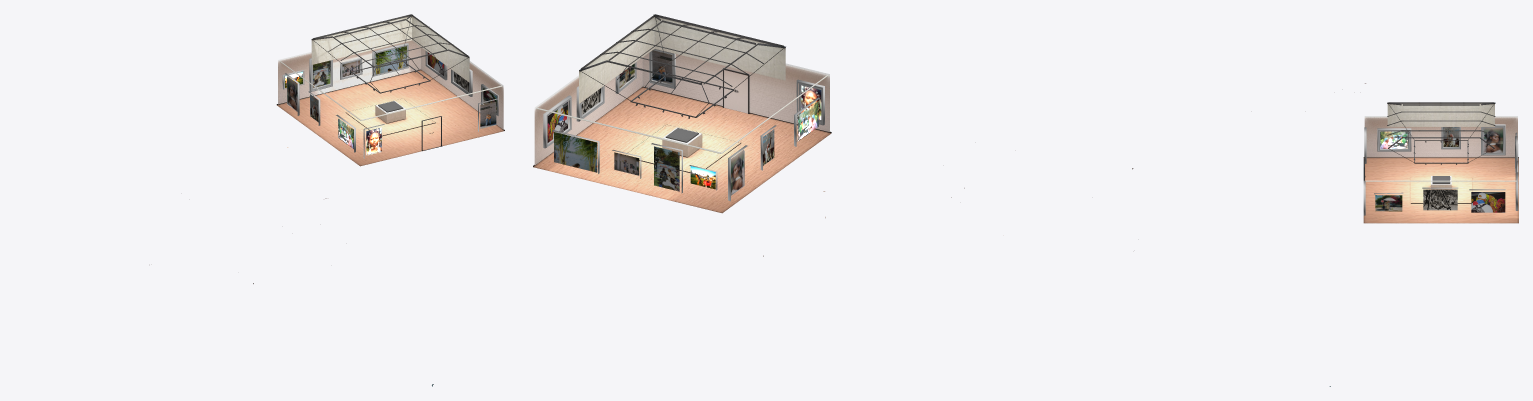
3 renders of one model, left to right at view 1: azimuth 30°, elevation 25°; view 2: azimuth 150°, elevation 25°; view 3: azimuth 270°, elevation 25°, orthographic. The views are drawn at different scales.
Visible parts, largest first — view 1: VR_Gallery_VR_Gallery_0.003, IMG_3661.002, IMG_1500; view 2: VR_Gallery_VR_Gallery_0.003, IMG_3661.002, IMG_1500, WALL3.002, union2; view 3: VR_Gallery_VR_Gallery_0.003, home, IMG_5284, gradification1.002, WALL3.002, IMG_2832.001, Pictures_2.042, IMG_0941.001.
Part boxes in pixels (x1,y1,x2,y2): VR_Gallery_VR_Gallery_0.003: (276, 14, 504, 166); IMG_3661.002: (375, 46, 406, 74); IMG_1500: (313, 60, 330, 87); VR_Gallery_VR_Gallery_0.003: (533, 14, 831, 213); IMG_3661.002: (554, 132, 597, 172); IMG_1500: (654, 146, 679, 191); WALL3.002: (797, 101, 818, 141); union2: (652, 50, 672, 84); VR_Gallery_VR_Gallery_0.003: (1363, 102, 1518, 223); home: (1423, 189, 1457, 210); IMG_5284: (1471, 192, 1505, 212); gradification1.002: (1483, 127, 1502, 152); WALL3.002: (1380, 131, 1407, 148); IMG_2832.001: (1375, 195, 1402, 211); Pictures_2.042: (1377, 128, 1411, 151); IMG_0941.001: (1443, 127, 1458, 146).
Bounding box in the file's own units: 32.48 × 19.77 × 18.04.
